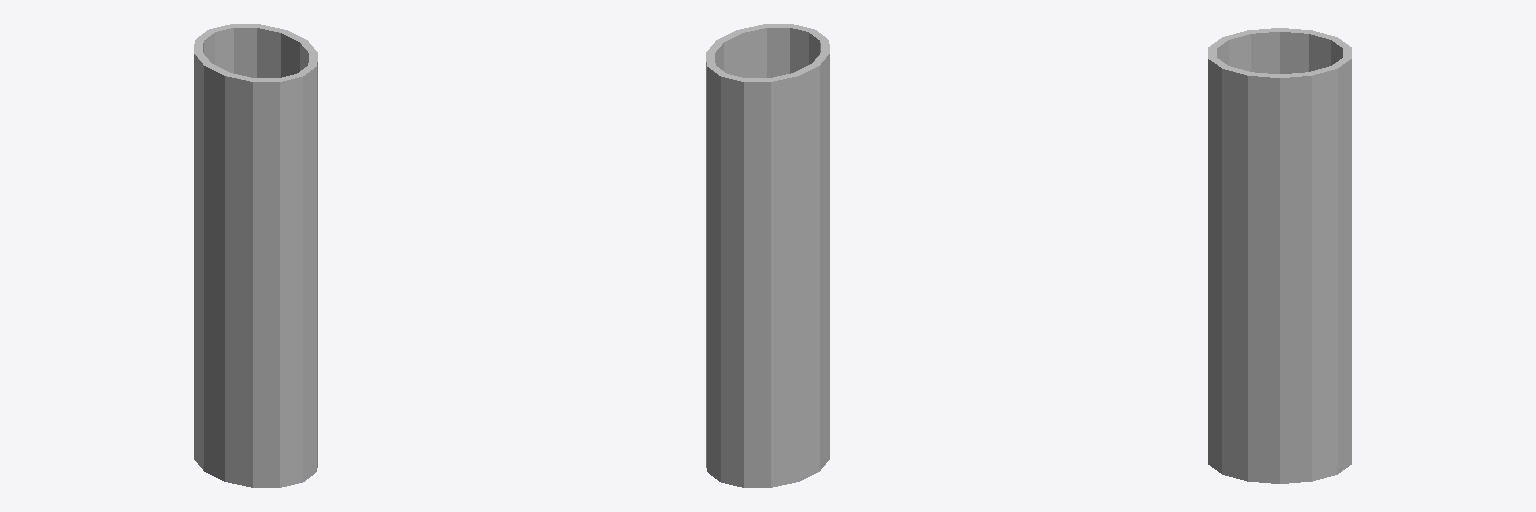
Rendered from Huff Clylinder.obj.
3 views of the same model, side by side, from view 1: azimuth 30°, elevation 25°; view 2: azimuth 150°, elevation 25°; view 3: azimuth 270°, elevation 25° (orthographic).
Parts seen in each view (by area): view 1: Huff Clylinder; view 2: Huff Clylinder; view 3: Huff Clylinder.
Boxes of the visible parts, x1,y1,x2,y2 form: Huff Clylinder: [194, 24, 317, 487]; Huff Clylinder: [706, 24, 829, 487]; Huff Clylinder: [1208, 28, 1351, 483].
Bounding box in the file's own units: 0.659 × 2.47 × 0.7922.